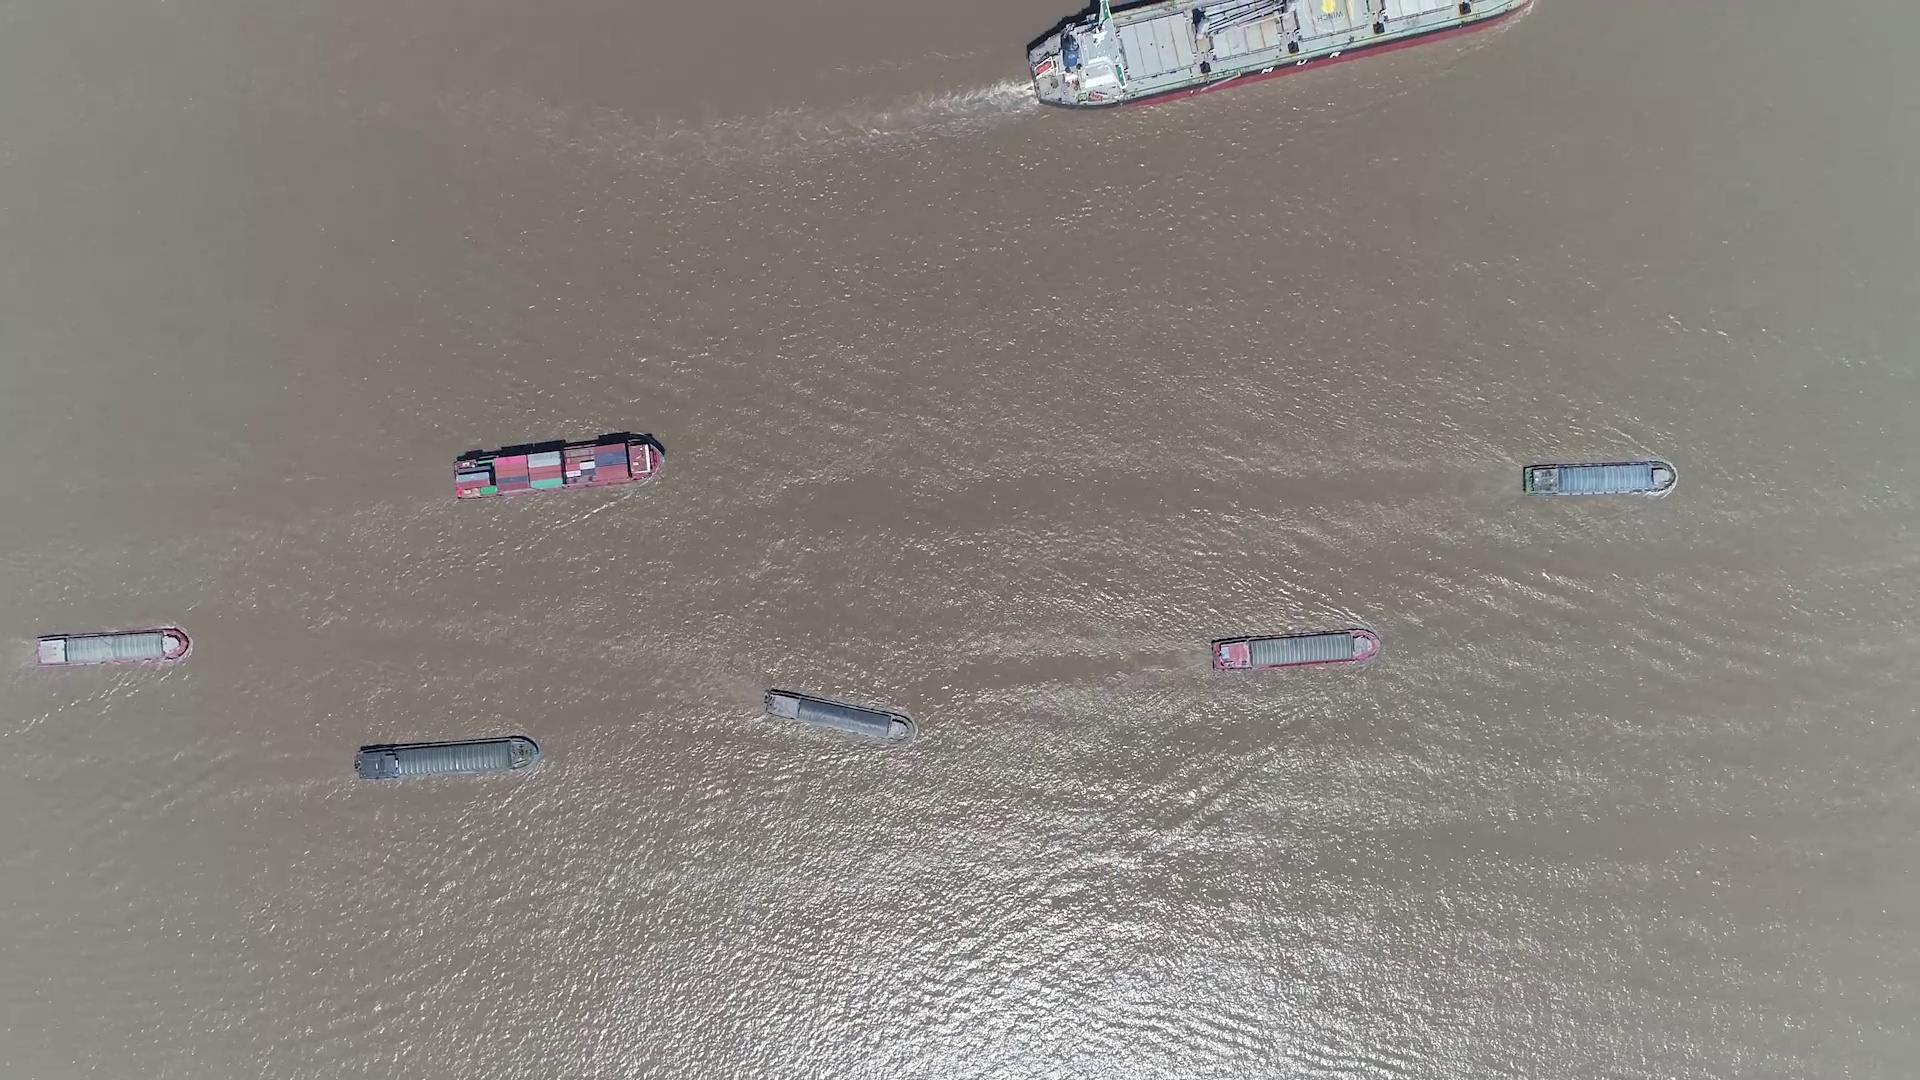ship: (1027, 1, 1534, 115), (451, 434, 665, 500), (355, 736, 539, 781), (764, 688, 913, 744), (1211, 629, 1381, 673), (32, 628, 190, 667), (1523, 462, 1675, 496)
